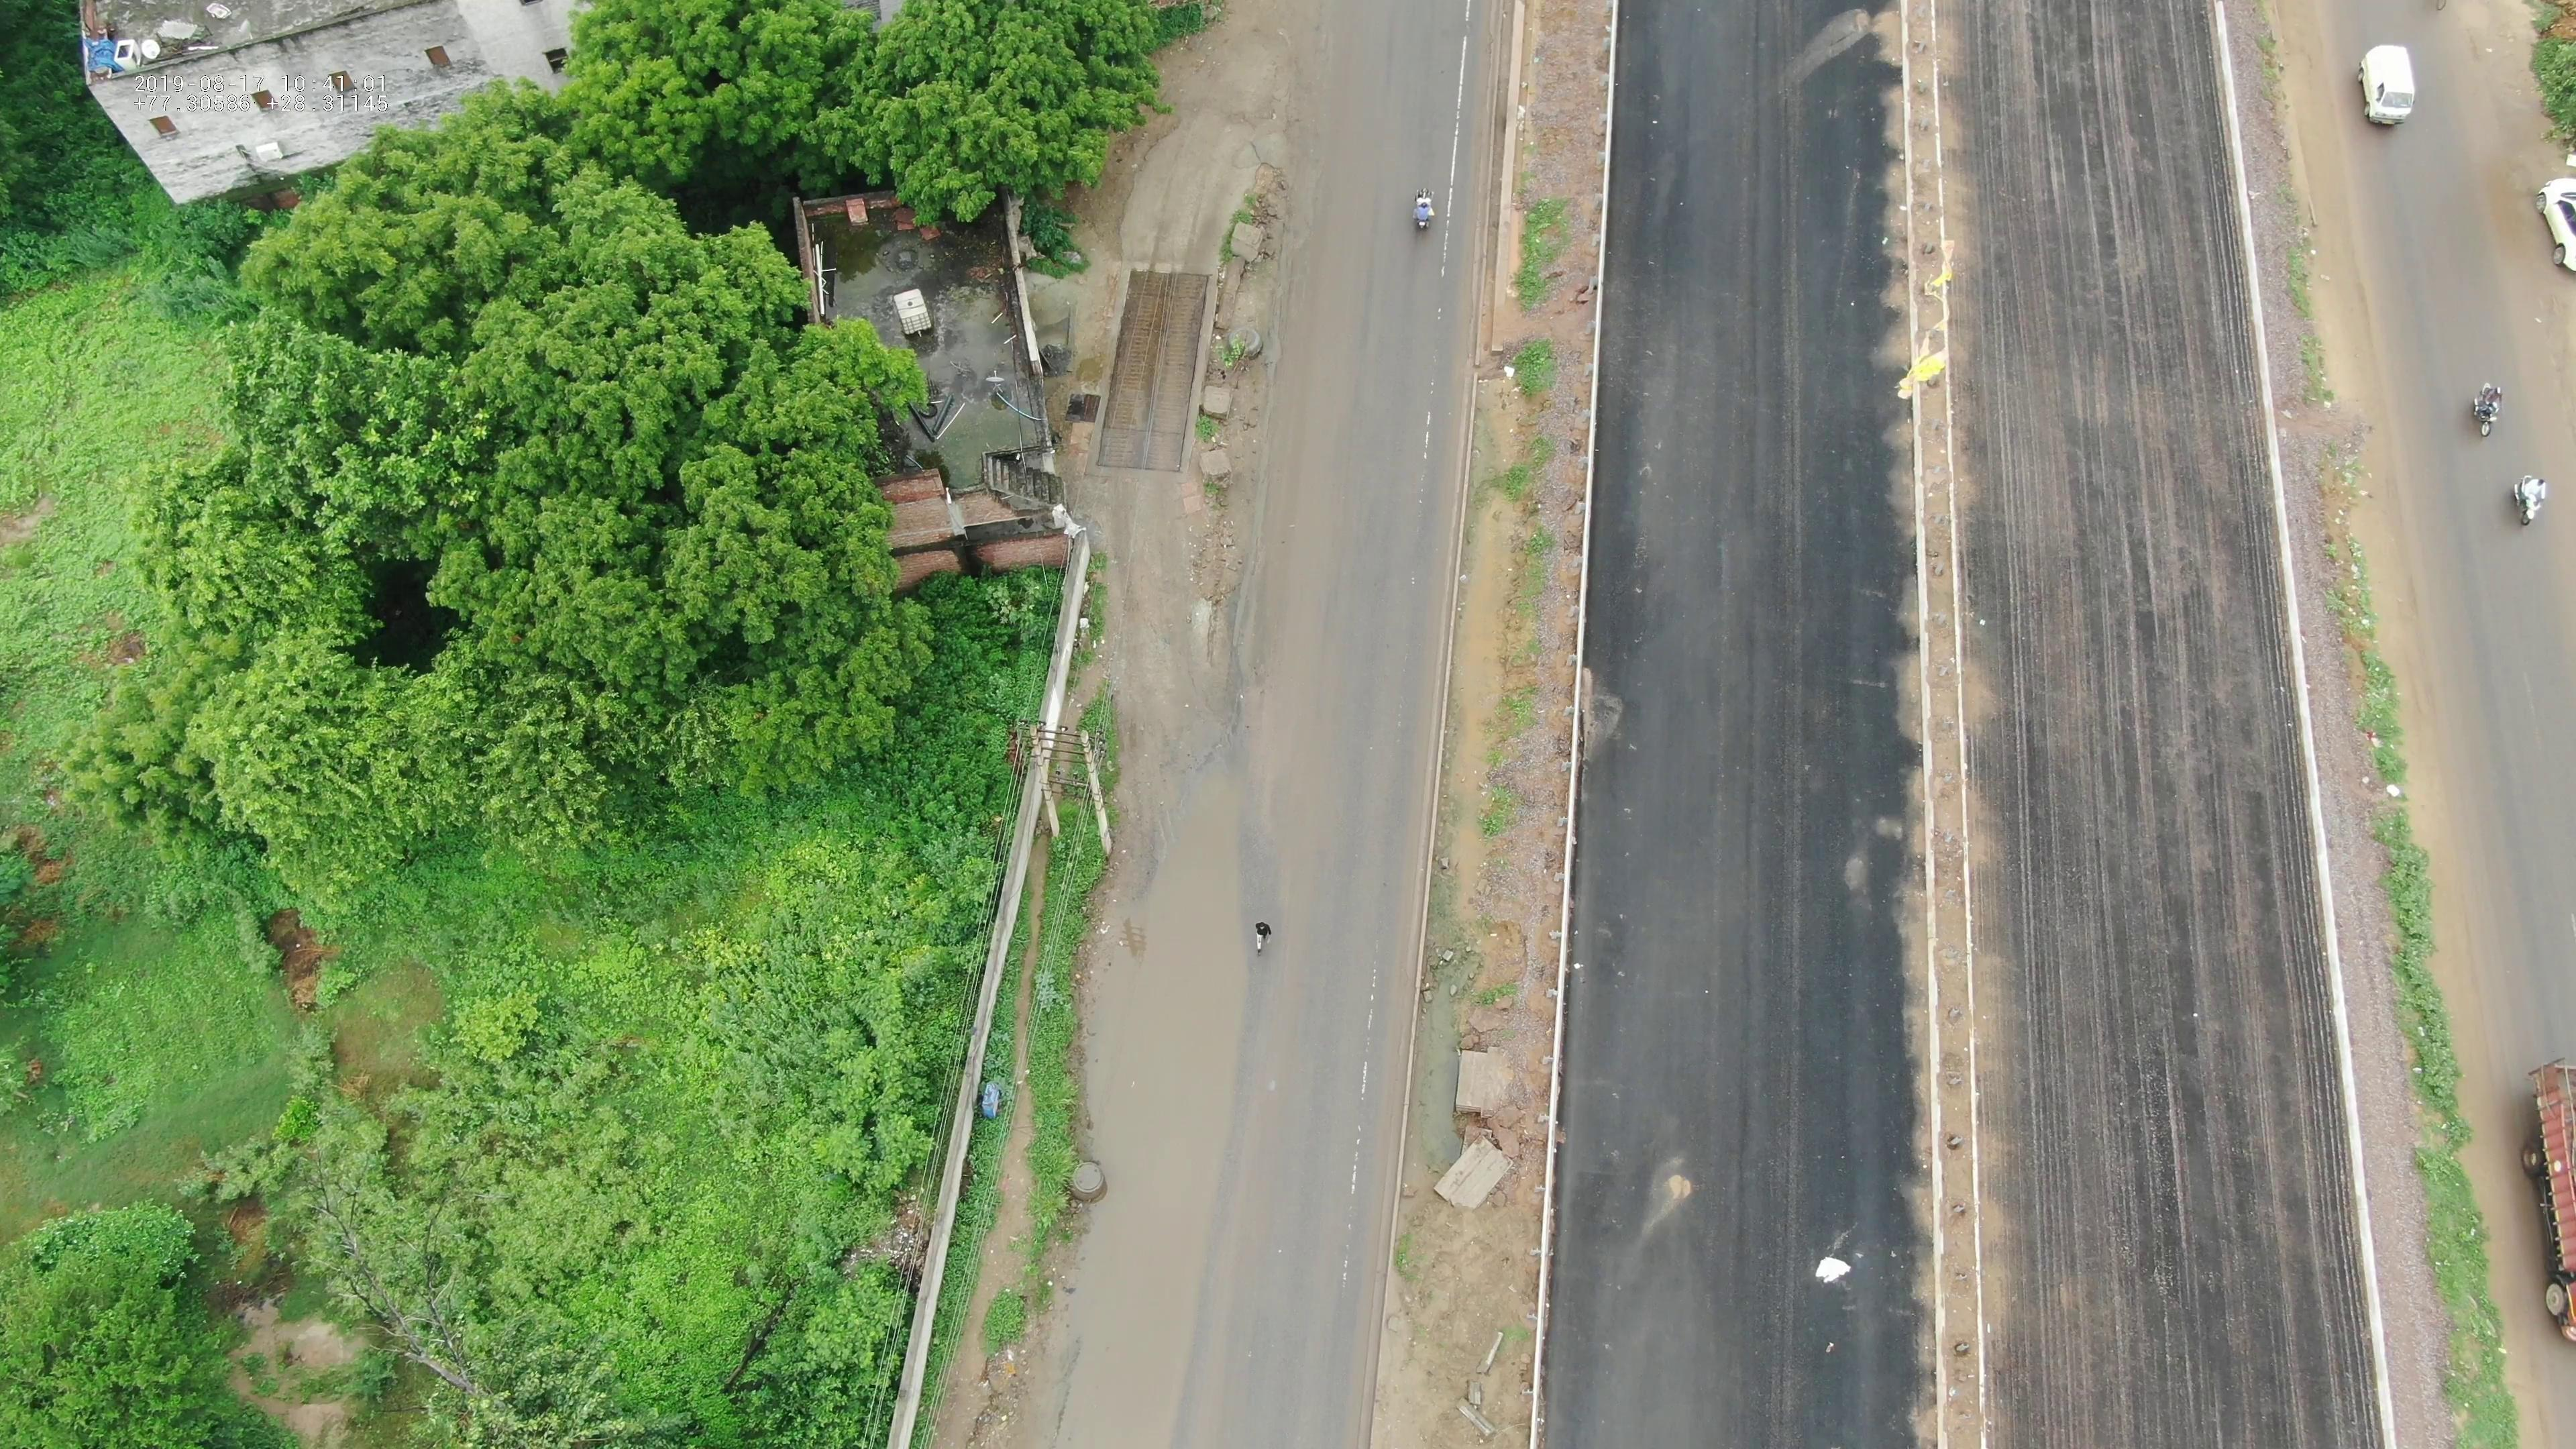Waterlogging: (1086, 947, 1210, 1320)
